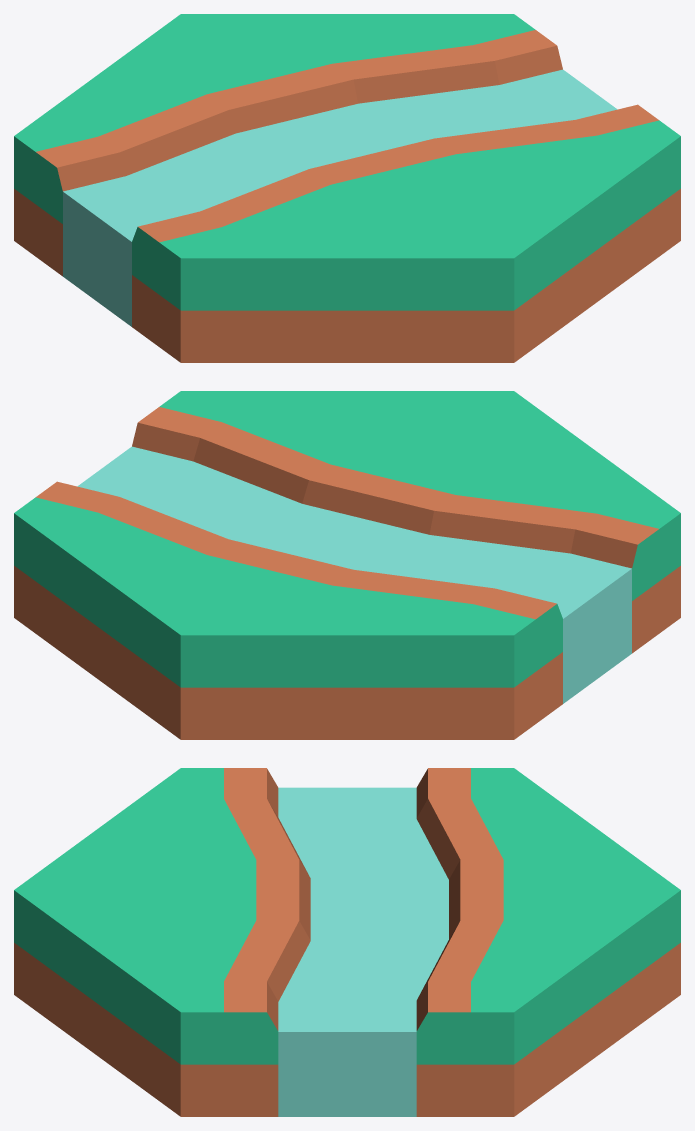
The model's file is river_straight.dae.
3 renders of one model, top to bottom at view 1: azimuth 30°, elevation 25°; view 2: azimuth 150°, elevation 25°; view 3: azimuth 270°, elevation 25°, orthographic.
Visible parts, largest first — view 1: river_straight; view 2: river_straight; view 3: river_straight.
Boxes of the visible parts, x1=… form: river_straight: x1=14, y1=14, x2=680, y2=362; river_straight: x1=14, y1=391, x2=680, y2=739; river_straight: x1=14, y1=768, x2=680, y2=1116.
Bounding box in the file's own units: 1 × 0.2 × 1.15.
